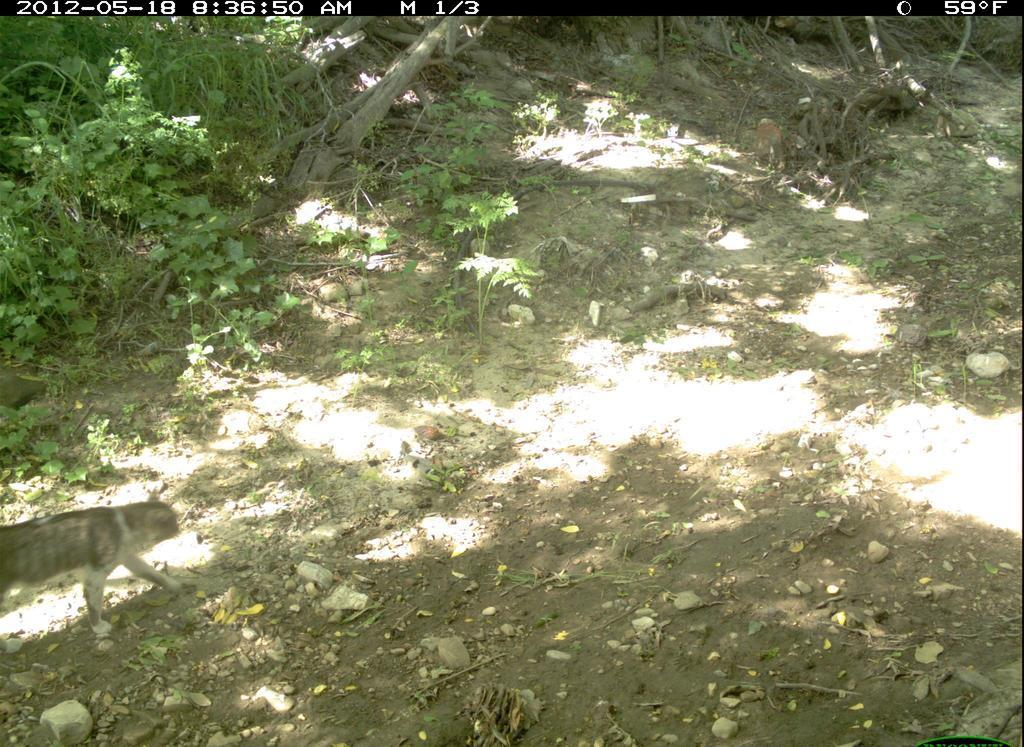cat: (4, 478, 195, 649)
